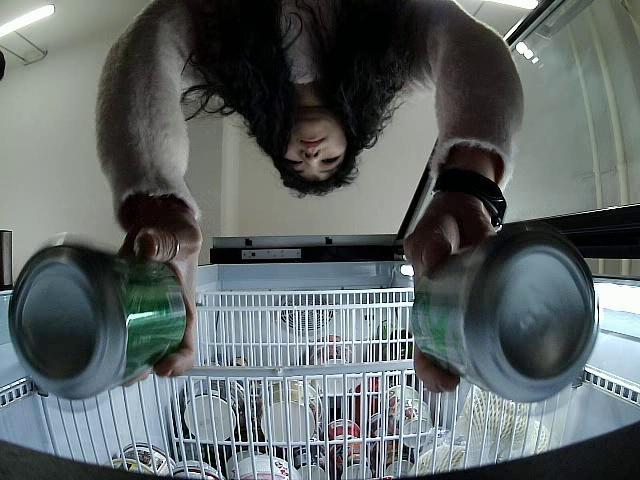12_chilsungCider: (410, 237, 600, 396), (8, 243, 189, 402)
